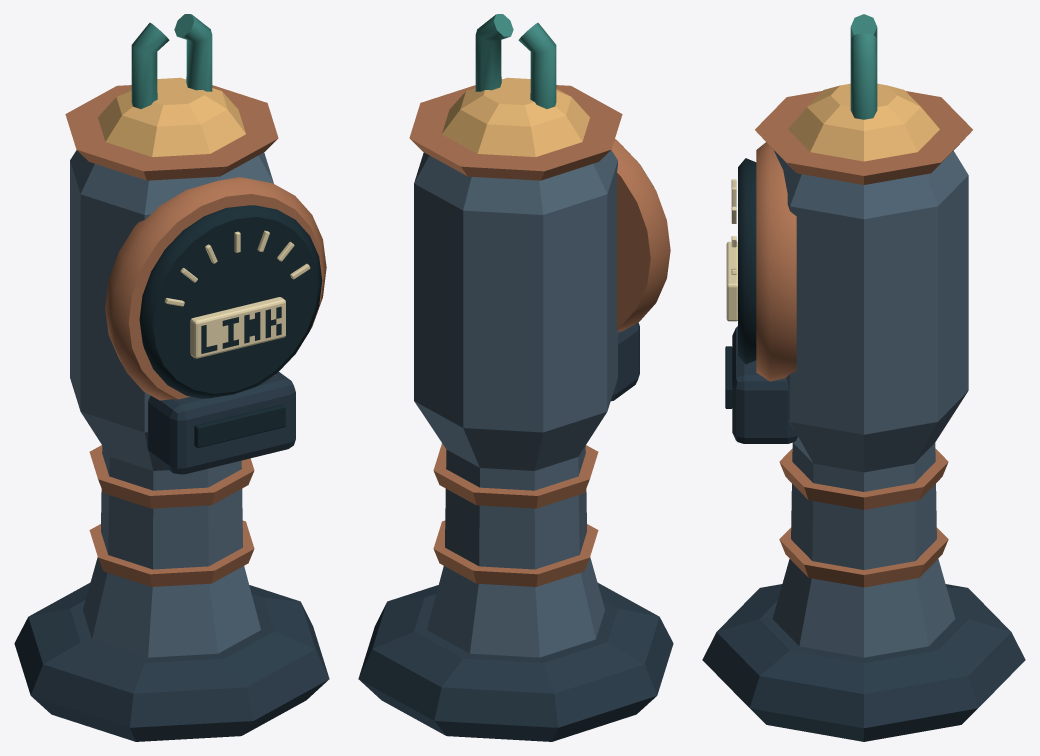
3 views of the same model, side by side, from view 1: azimuth 30°, elevation 25°; view 2: azimuth 150°, elevation 25°; view 3: azimuth 270°, elevation 25° (orthographic).
Visible parts, largest first — view 1: PR117 enamel and hardware; view 2: PR117 enamel and hardware; view 3: PR117 enamel and hardware.
Boxes of the visible parts, x1=… form: PR117 enamel and hardware: x1=14, y1=14, x2=329, y2=741; PR117 enamel and hardware: x1=358, y1=14, x2=673, y2=741; PR117 enamel and hardware: x1=702, y1=14, x2=1025, y2=741.
Size of the model in its own units: 0.7 by 1.58 by 0.7.
